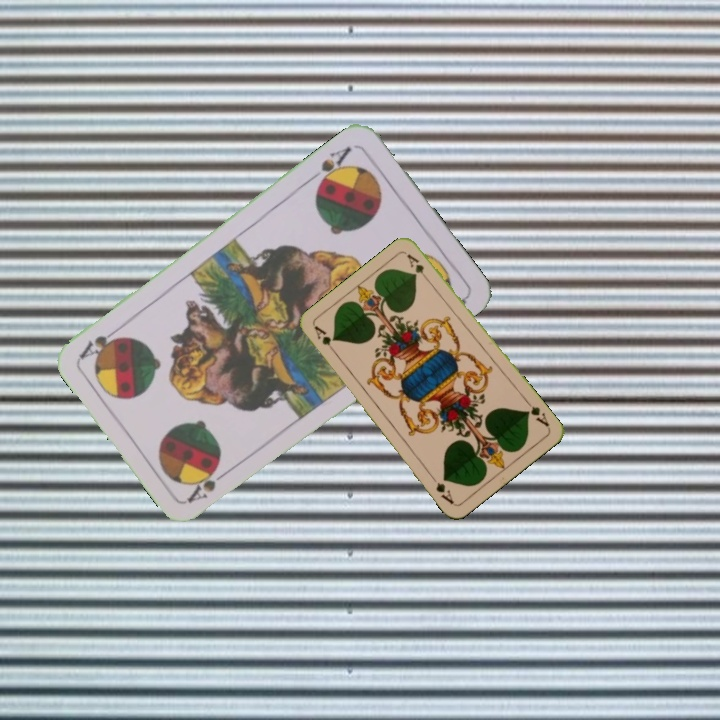GA: (521, 396, 552, 430), (310, 322, 340, 357)
SA: (306, 142, 354, 190), (183, 463, 235, 506)
